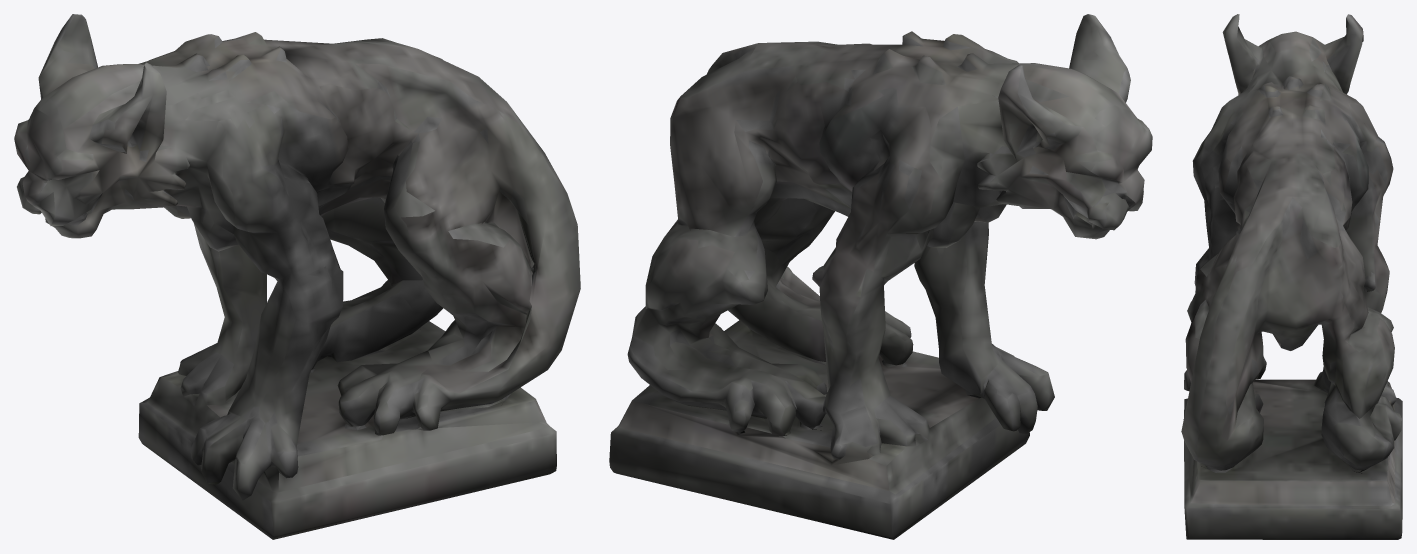
The model's file is worn-granite-gargoyle-v001.glb.
3 views of the same model, side by side, from view 1: azimuth 30°, elevation 25°; view 2: azimuth 150°, elevation 25°; view 3: azimuth 270°, elevation 25° (orthographic). The views are drawn at different scales.
Visible parts, largest first — view 1: worn-granite-gargoyle; view 2: worn-granite-gargoyle; view 3: worn-granite-gargoyle.
Boxes of the visible parts, <box> form: worn-granite-gargoyle: <box>14,14,580,539</box>; worn-granite-gargoyle: <box>609,14,1152,539</box>; worn-granite-gargoyle: <box>1181,14,1402,539</box>.
Bounding box in the file's own units: 0.8554 × 0.7889 × 0.4152.
Materials: 1 (1 with a texture image).
